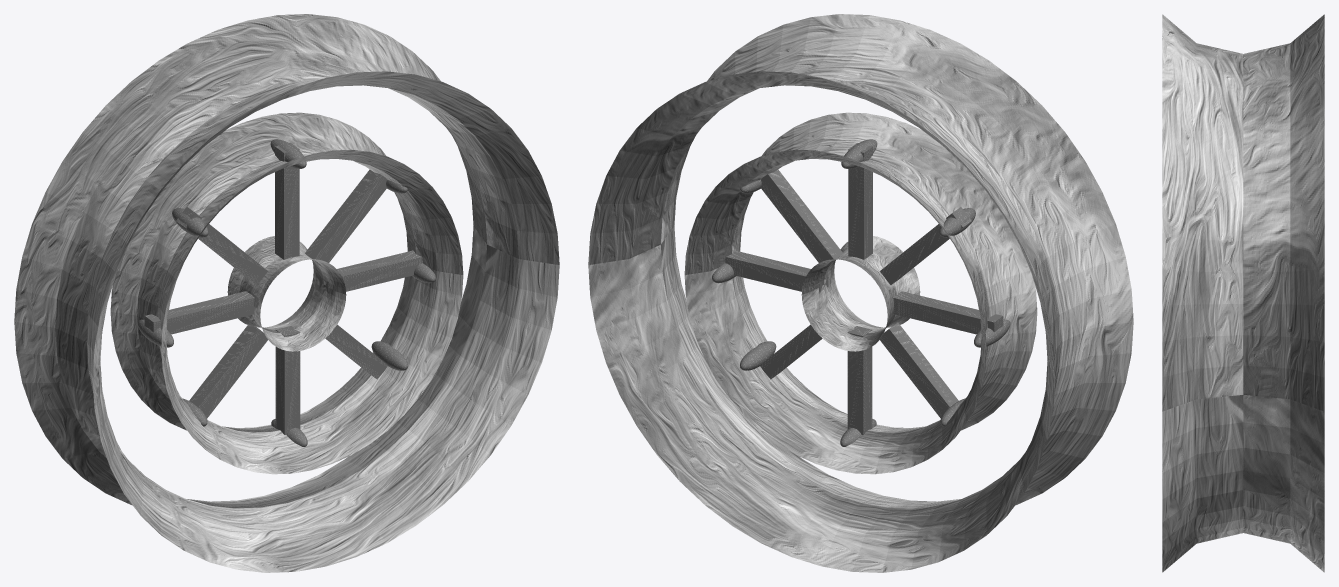
File: wheel.glb
3 views of the same model, side by side, from view 1: azimuth 30°, elevation 25°; view 2: azimuth 150°, elevation 25°; view 3: azimuth 270°, elevation 25° (orthographic). The views are drawn at different scales.
Visible parts, largest first — view 1: Torus.002, Torus; view 2: Torus.002, Torus; view 3: Torus.002.
Boxes of the visible parts, x1,y1,x2,y2 form: Torus.002: (14,14,559,572); Torus: (110,112,463,474); Torus.002: (588,14,1133,572); Torus: (684,112,1037,474); Torus.002: (1162,14,1324,572).
Bounding box in the file's own units: 1.08 × 1.08 × 0.3132.
Materials: 1 (1 with a texture image).
